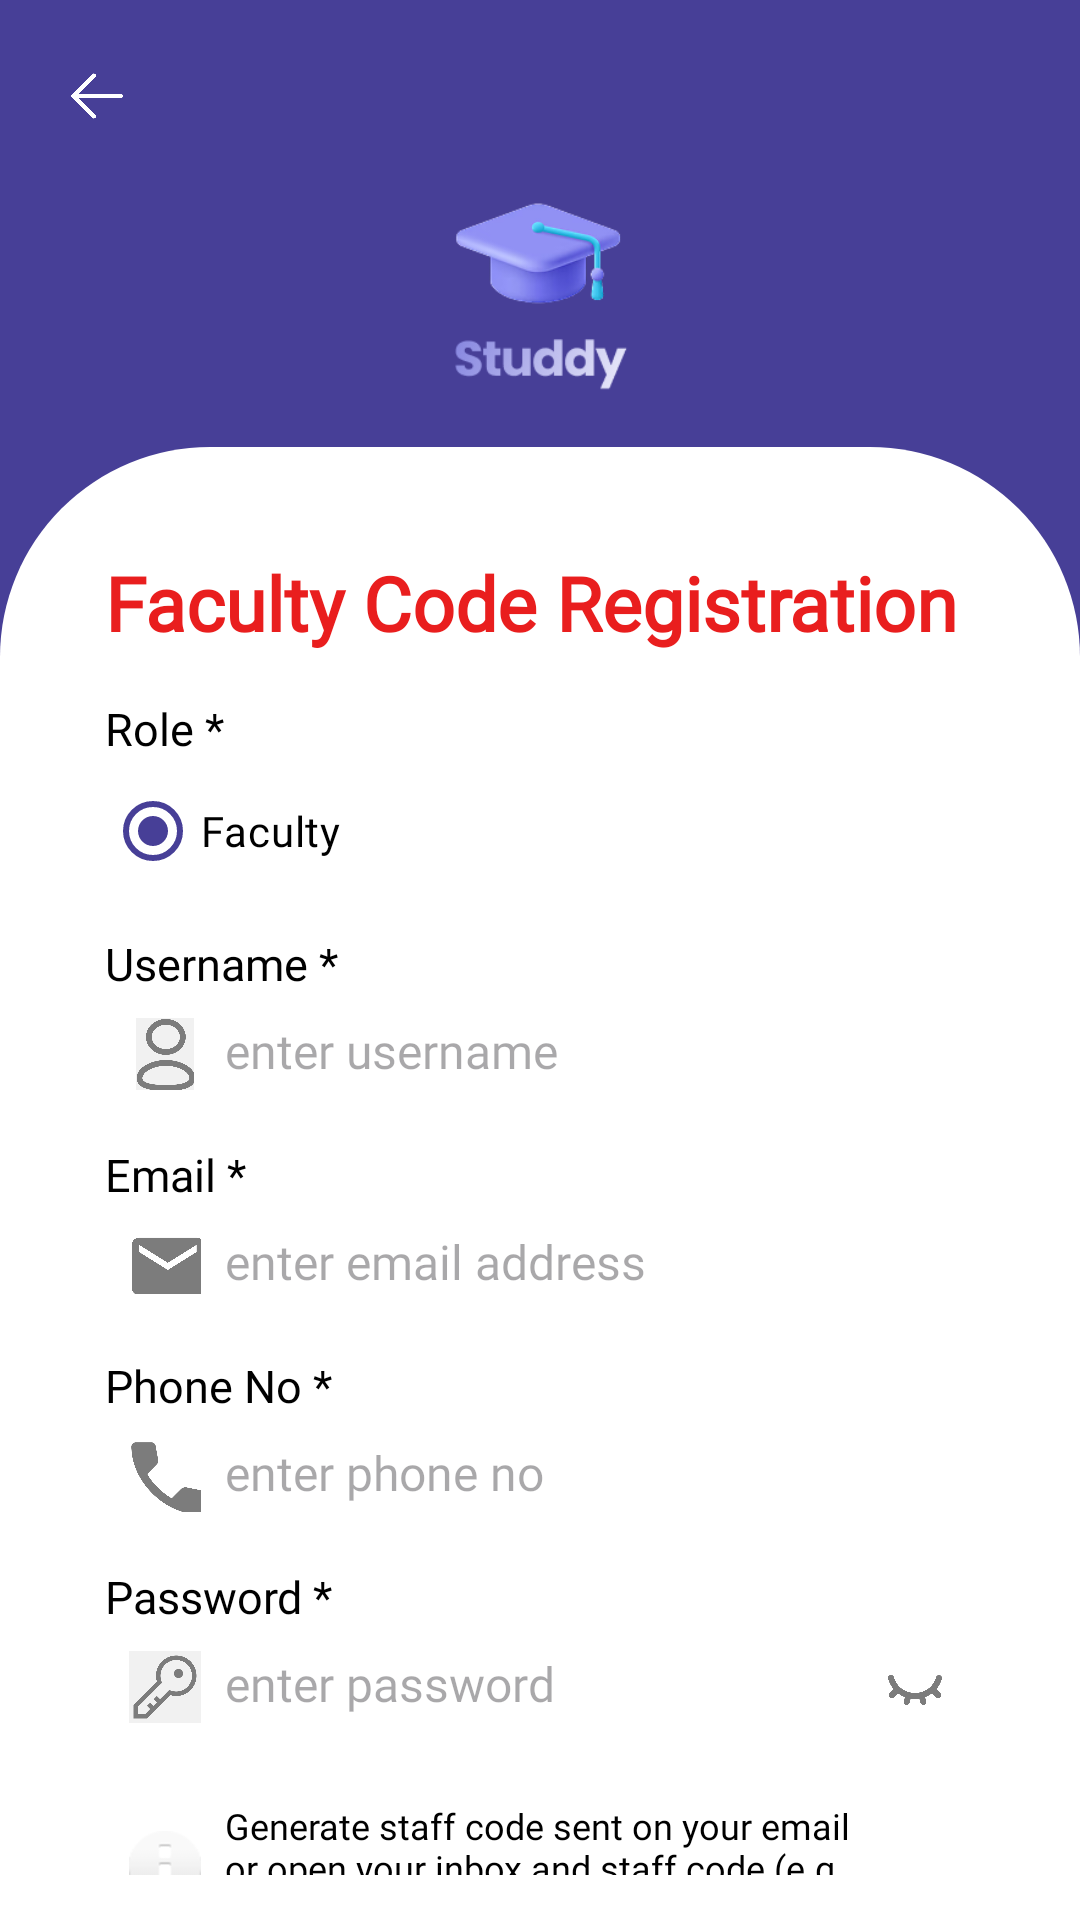

Icon click points for this 1080 x 1920 phone screenshot, format (x,y):
arrow back: (97,96)
eye close: (915,1690)
